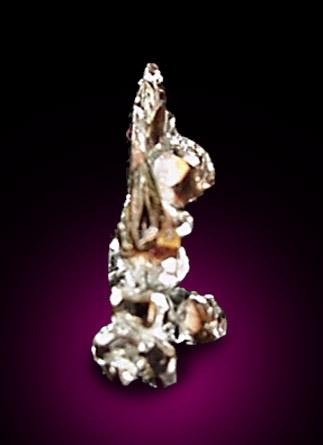silver: (90, 63, 227, 390)
